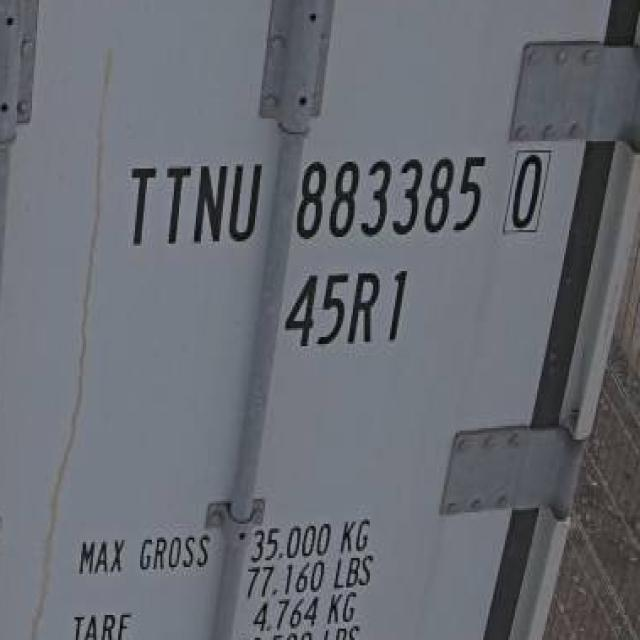dv: (497, 140, 560, 244)
owner: (120, 154, 267, 260)
serial: (293, 142, 491, 246)
size: (280, 260, 422, 354)
